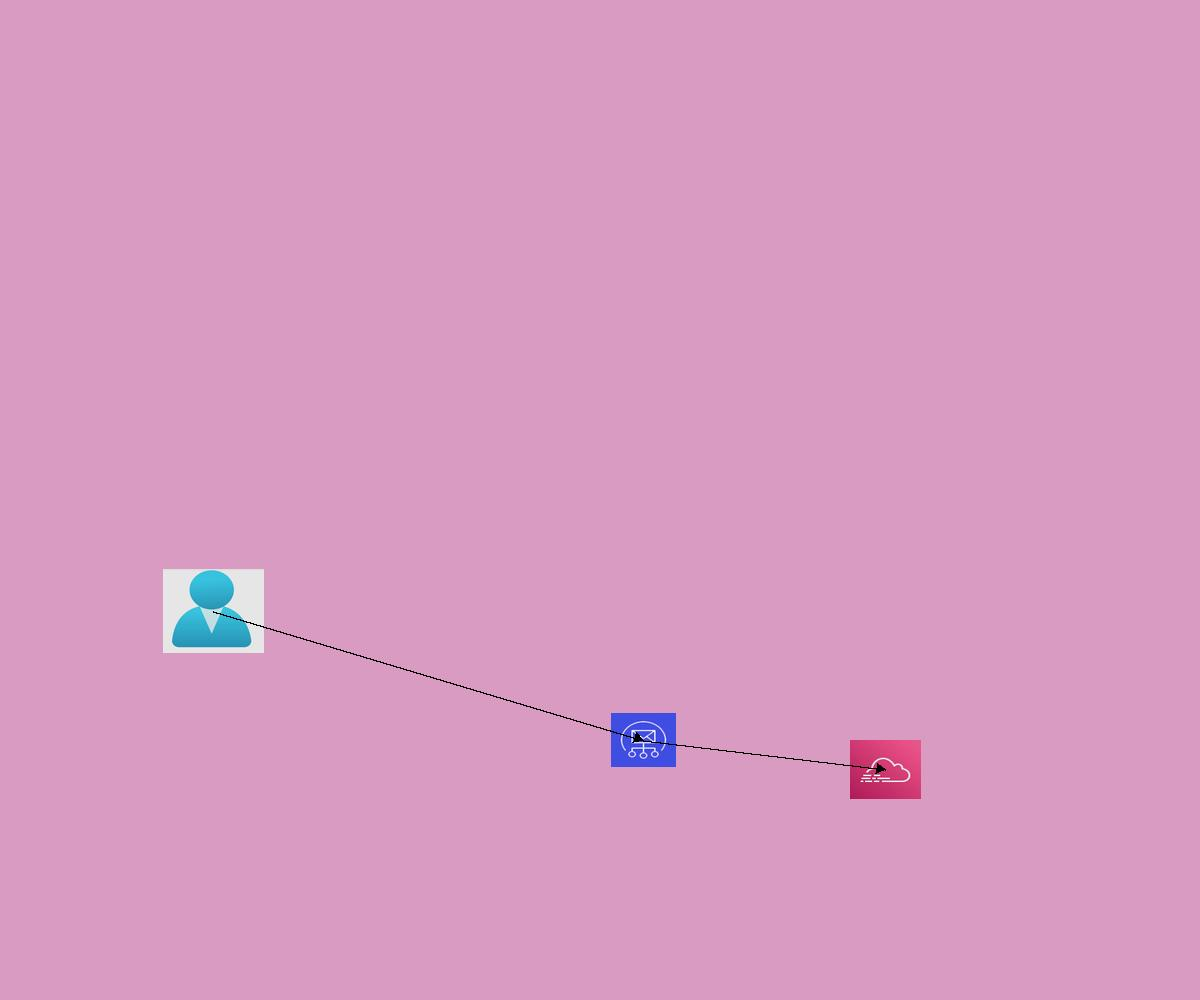AWS-CloudTrail: (850, 740, 921, 799)
AWS-Simple-Email-Service: (611, 713, 676, 767)
Azure_users: (163, 569, 264, 653)
